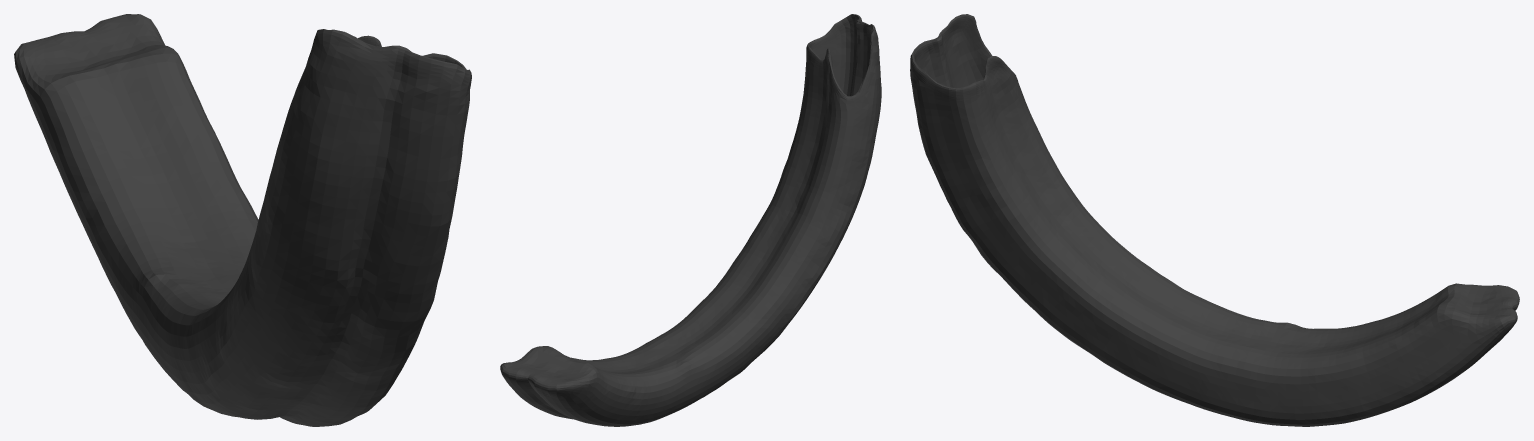
Rendered from tooth_rabbit_101_low.glb.
3 views of the same model, side by side, from view 1: azimuth 30°, elevation 25°; view 2: azimuth 150°, elevation 25°; view 3: azimuth 270°, elevation 25° (orthographic). The views are drawn at different scales.
Visible parts, largest first — view 1: tooth_rabbit_101_low; view 2: tooth_rabbit_101_low; view 3: tooth_rabbit_101_low.
Part boxes in pixels (<box>): tooth_rabbit_101_low: <box>14,14,471,426</box>; tooth_rabbit_101_low: <box>500,14,881,426</box>; tooth_rabbit_101_low: <box>910,14,1519,426</box>.
Size of the model in its own units: 0.5738 by 1.09 by 1.72.
1 material, 1 textured.
